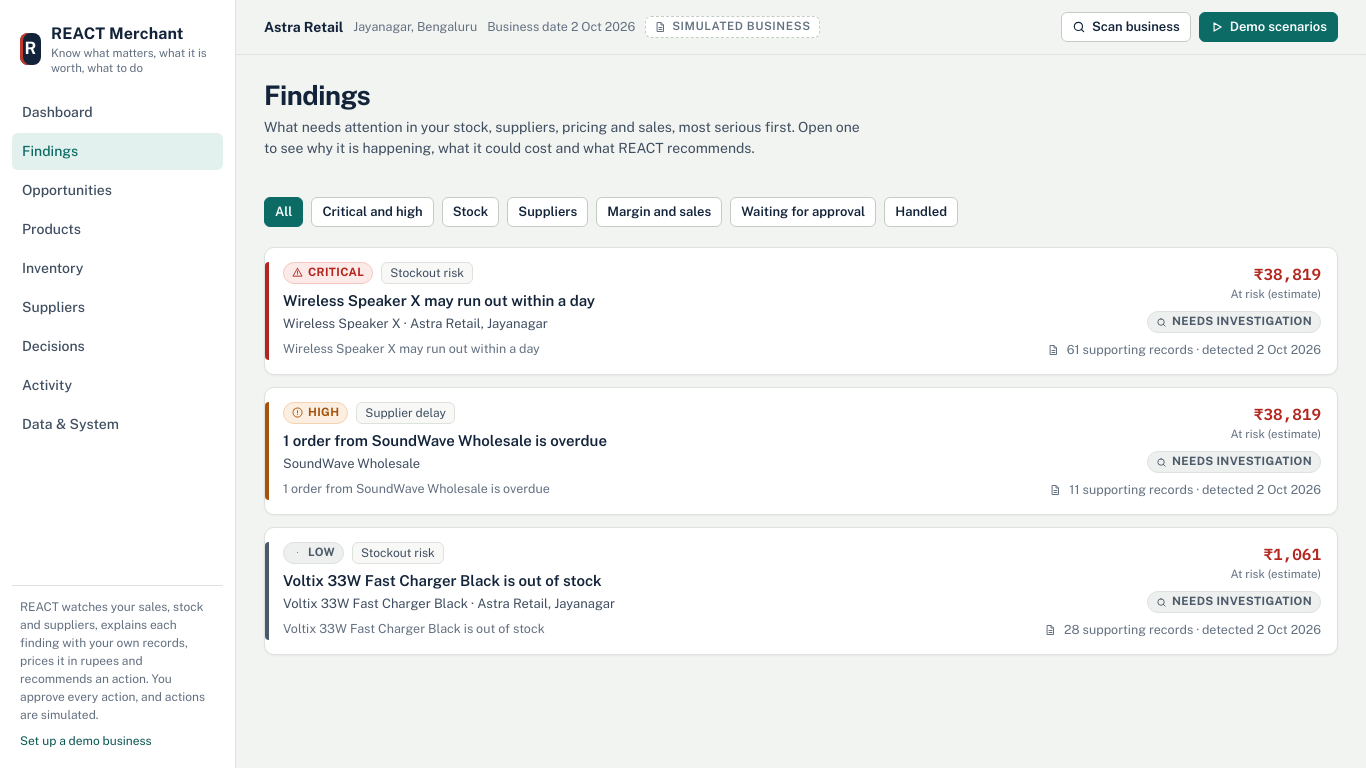
Findings and opportunities › lists findings with filters by stock, suppliers and money
Check: the 1st text "Wireless Speaker X may run out within a day" is shown, box [283,292,595,309]
Click the button "Suppliers".
click(548, 212)  # box [507,197,588,227]
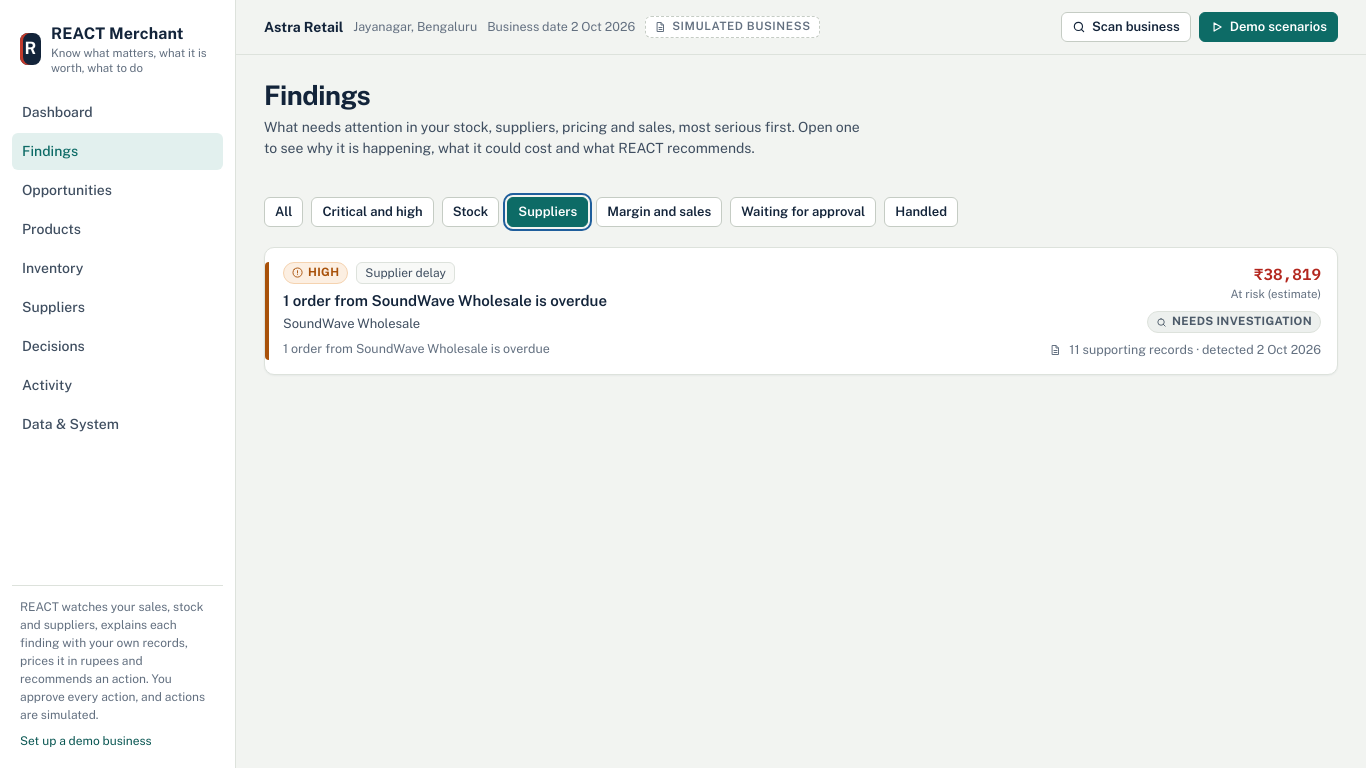
Click the button "Margin and sales".
click(659, 212)  # box [596,197,722,227]
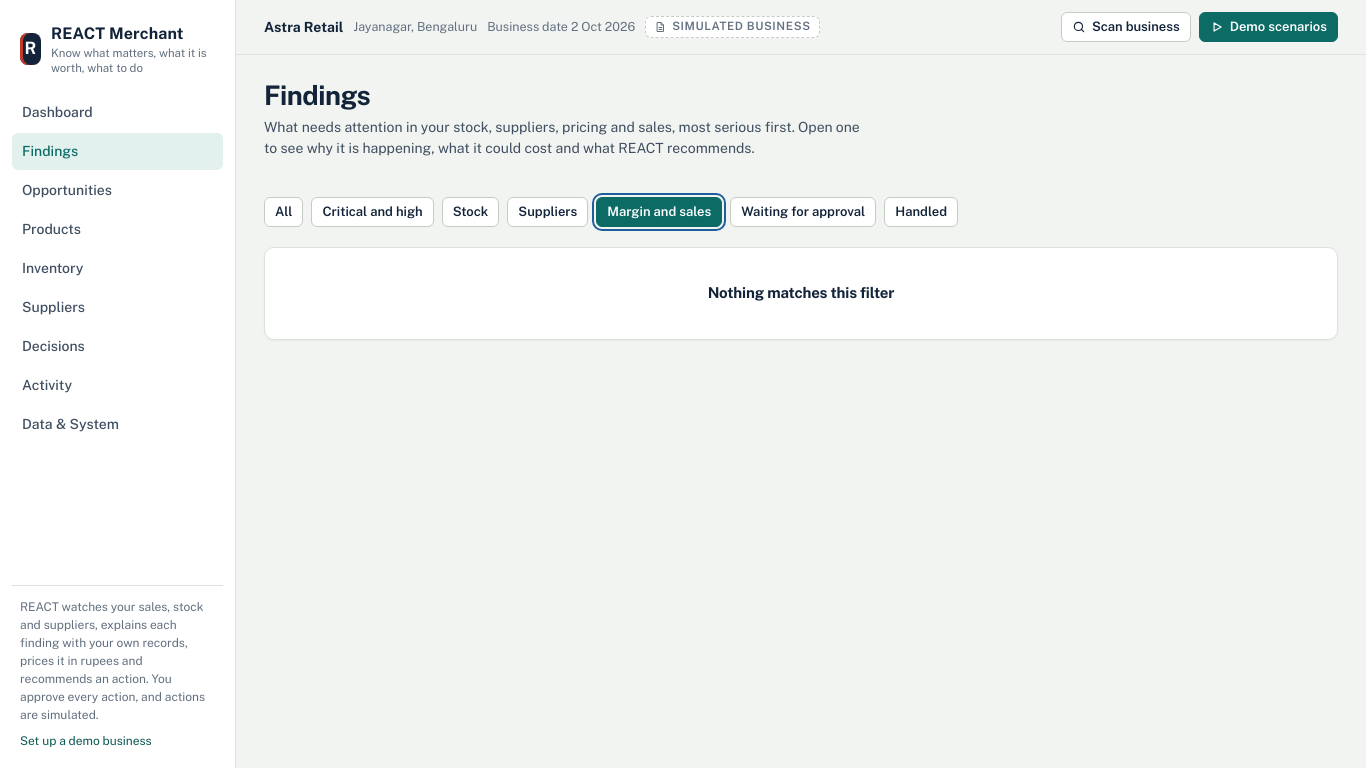
Check: the heading "Nothing matches this filter" is shown, box [708,284,894,303]
